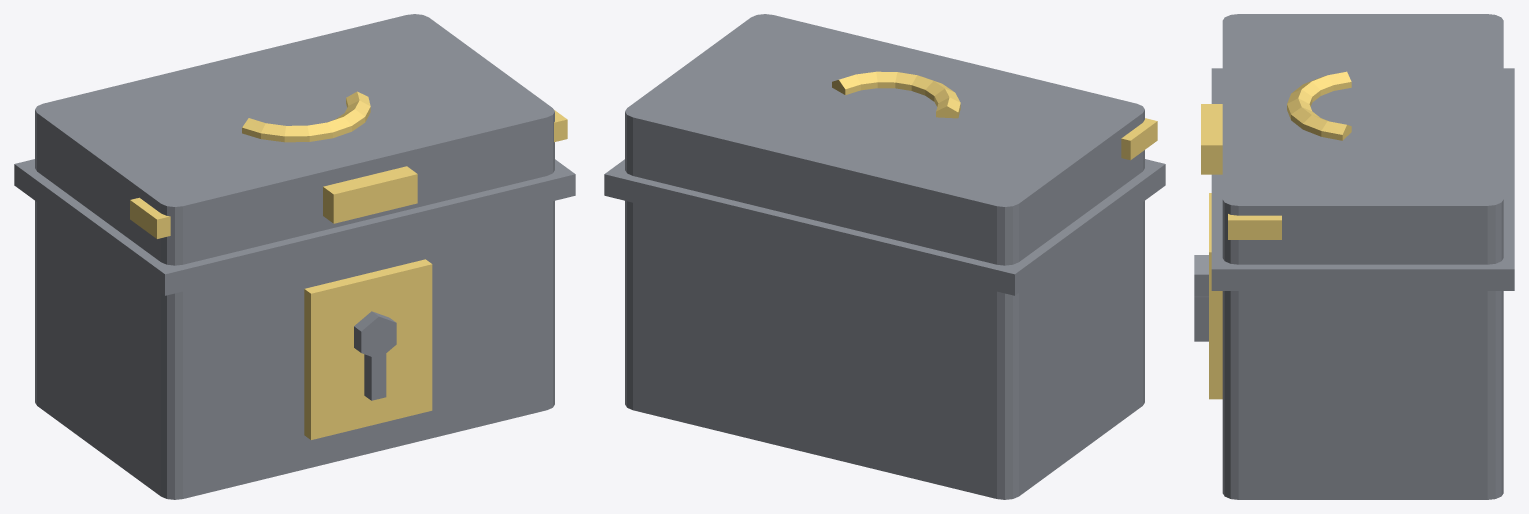
Rendered from pickups-and-collectibles-lockbox-3b938e8d__19952.glb.
The picture shows the model from 3 angles, left to right: view 1: azimuth 30°, elevation 25°; view 2: azimuth 150°, elevation 25°; view 3: azimuth 270°, elevation 25°; orthographic projection.
Visible parts, largest first — view 1: body/iron, lid/iron, body/gold, lid/gold; view 2: body/iron, lid/iron, lid/gold; view 3: body/iron, lid/iron, lid/gold, body/gold.
Boxes of the visible parts, x1,y1,x2,y2 form: body/iron: (14, 159, 575, 499); lid/iron: (35, 14, 554, 265); body/gold: (304, 259, 432, 439); lid/gold: (130, 91, 567, 238); body/iron: (604, 159, 1165, 499); lid/iron: (625, 14, 1144, 265); lid/gold: (832, 71, 1157, 160); body/iron: (1194, 68, 1514, 499); lid/iron: (1222, 14, 1503, 264); lid/gold: (1201, 71, 1351, 239); body/gold: (1209, 193, 1222, 399).
Bounding box in the file's own units: 0.44 × 0.312 × 0.296.
